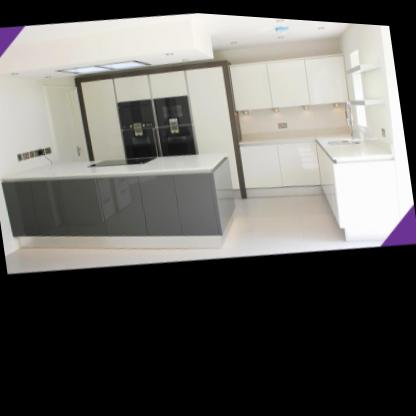Cabinet: (0, 140, 240, 274), (238, 119, 404, 254), (227, 41, 350, 117)
